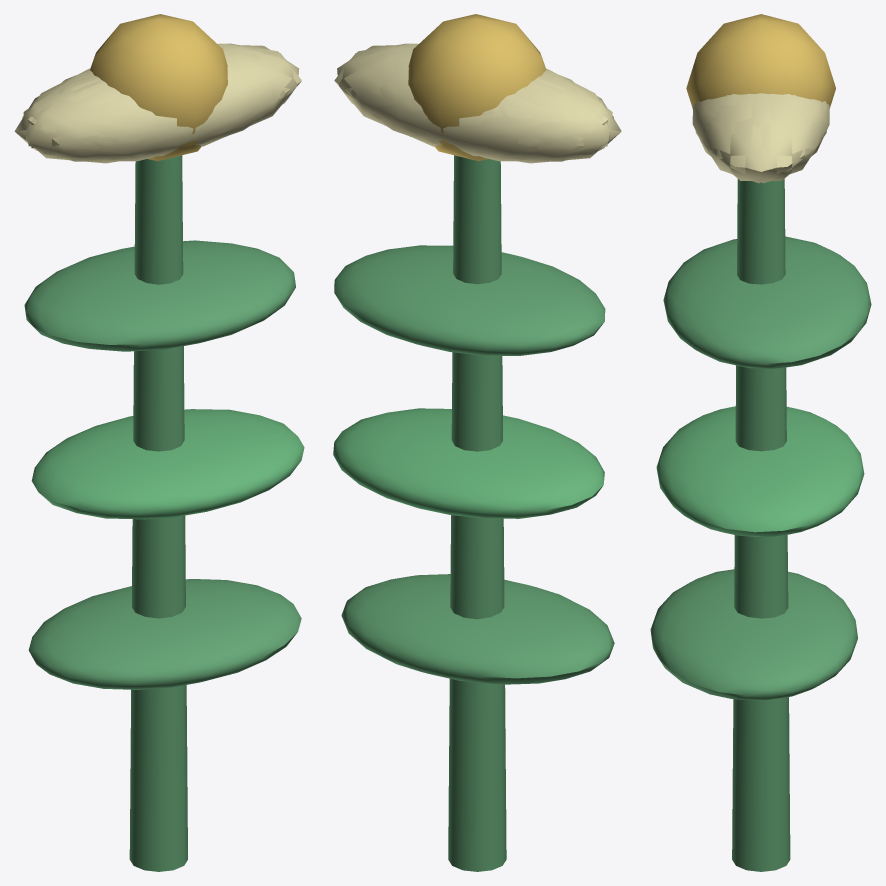
Rendered from spathiphyllum-wallisii.glb.
3 renders of one model, left to right at view 1: azimuth 30°, elevation 25°; view 2: azimuth 150°, elevation 25°; view 3: azimuth 270°, elevation 25°, orthographic.
Visible parts, largest first — view 1: stem, leaf0, leaf1, leaf2, center, petal6, petal2, petal1, petal5, petal7, petal0; view 2: stem, leaf2, leaf1, leaf0, center, petal3, petal7, petal8, petal4, petal2, petal0; view 3: stem, leaf2, leaf1, leaf0, center, petal0, petal5, petal4, petal8, petal1.
Part boxes in pixels (x1=…): stem: x1=129, y1=155, x2=187, y2=871; leaf0: x1=28, y1=579, x2=301, y2=689; leaf1: x1=31, y1=409, x2=304, y2=519; leaf2: x1=24, y1=240, x2=295, y2=351; center: x1=90, y1=14, x2=227, y2=161; petal6: x1=31, y1=81, x2=215, y2=161; petal2: x1=23, y1=75, x2=165, y2=163; petal1: x1=95, y1=61, x2=285, y2=159; petal5: x1=154, y1=51, x2=301, y2=152; petal7: x1=14, y1=70, x2=108, y2=155; petal0: x1=222, y1=45, x2=299, y2=136; stem: x1=448, y1=155, x2=506, y2=871; leaf2: x1=334, y1=245, x2=605, y2=355; leaf1: x1=333, y1=408, x2=604, y2=518; leaf0: x1=341, y1=574, x2=614, y2=684; center: x1=408, y1=14, x2=546, y2=161; petal3: x1=421, y1=81, x2=605, y2=161; petal7: x1=471, y1=75, x2=612, y2=163; petal8: x1=350, y1=61, x2=540, y2=159; petal4: x1=334, y1=51, x2=481, y2=152; petal2: x1=528, y1=70, x2=621, y2=155; petal0: x1=337, y1=45, x2=414, y2=136; stem: x1=732, y1=179, x2=790, y2=871; leaf2: x1=663, y1=236, x2=871, y2=368; leaf1: x1=656, y1=406, x2=864, y2=536; leaf0: x1=650, y1=569, x2=857, y2=700; center: x1=686, y1=14, x2=835, y2=106; petal0: x1=706, y1=93, x2=816, y2=180; petal5: x1=695, y1=93, x2=772, y2=183; petal4: x1=750, y1=93, x2=826, y2=183; petal8: x1=783, y1=94, x2=829, y2=156; petal1: x1=692, y1=94, x2=739, y2=156.
Size of the model in its own units: 0.1541 by 0.4447 by 0.1062.
